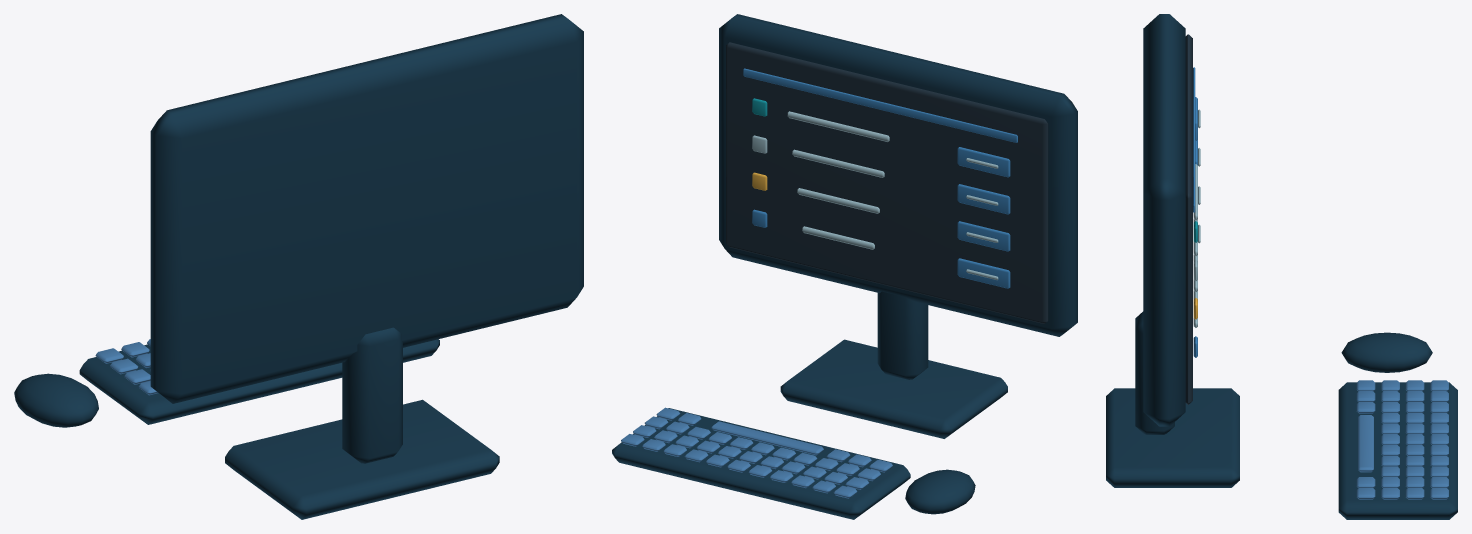
The model's file is reception-computer.glb.
3 views of the same model, side by side, from view 1: azimuth 30°, elevation 25°; view 2: azimuth 150°, elevation 25°; view 3: azimuth 270°, elevation 25° (orthographic). The views are drawn at different scales.
Parts seen in each view (by area): view 1: REUSED_Computer_At_Reception_Placement__Visual; view 2: REUSED_Computer_At_Reception_Placement__Visual; view 3: REUSED_Computer_At_Reception_Placement__Visual.
Boxes of the visible parts, x1,y1,x2,y2 form: REUSED_Computer_At_Reception_Placement__Visual: [14, 14, 583, 519]; REUSED_Computer_At_Reception_Placement__Visual: [612, 14, 1077, 519]; REUSED_Computer_At_Reception_Placement__Visual: [1106, 14, 1457, 519].
Bounding box in the file's own units: 0.4995 × 0.459 × 0.4155.
1 material, 1 textured.
